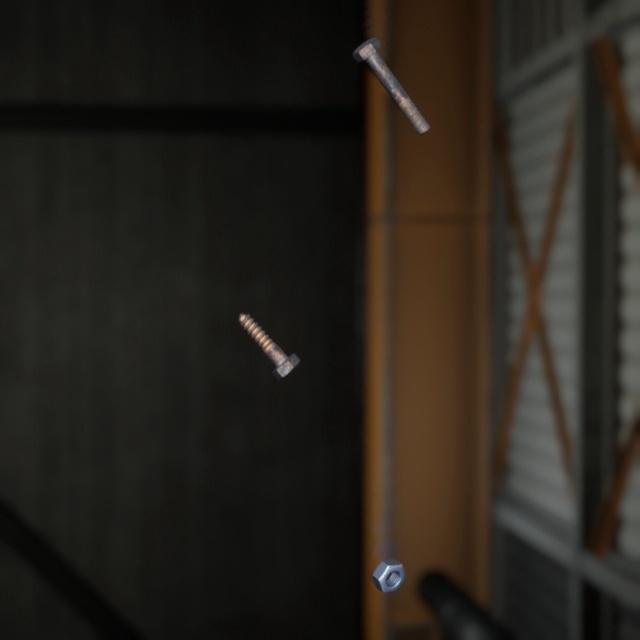bolt: (348, 23, 434, 129), (233, 290, 305, 365)
nut: (367, 533, 410, 575)
